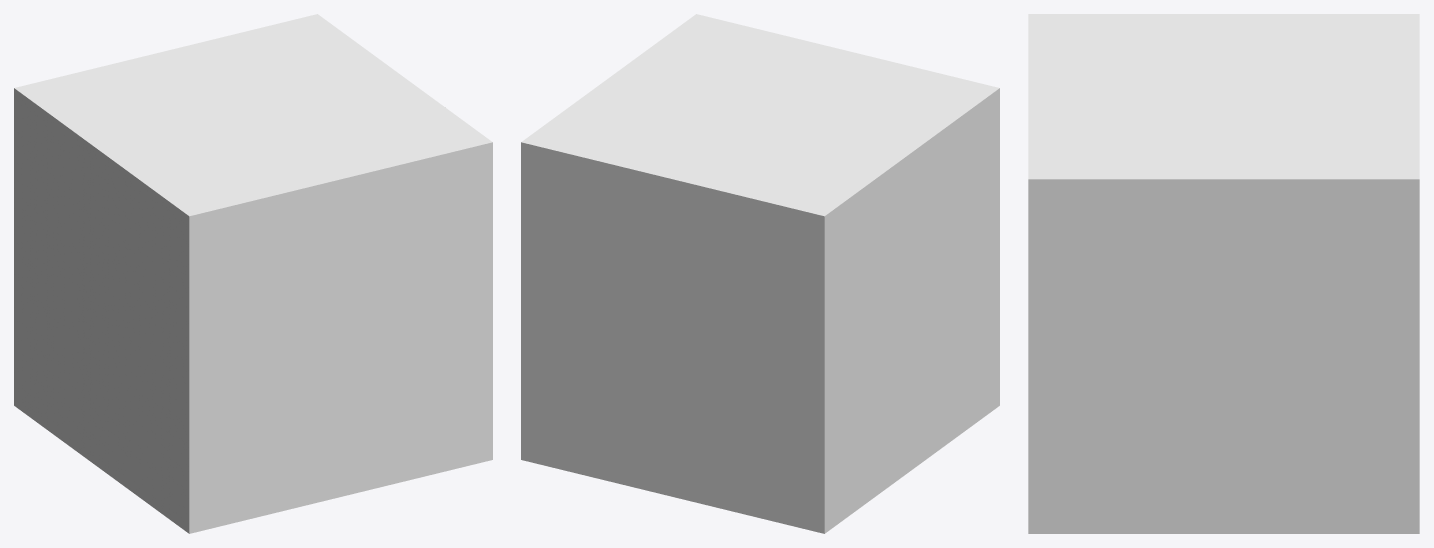
Rendered from yichinghuang_0614_ver2.fbx.
3 views of the same model, side by side, from view 1: azimuth 30°, elevation 25°; view 2: azimuth 150°, elevation 25°; view 3: azimuth 270°, elevation 25° (orthographic). The views are drawn at different scales.
Visible parts, largest first — view 1: cube, top; view 2: cube, top; view 3: cube, top.
Boxes of the visible parts, <box> form: cube: <box>14,88,492,533</box>; top: <box>14,14,492,216</box>; cube: <box>521,88,999,533</box>; top: <box>521,14,999,216</box>; cube: <box>1028,179,1419,533</box>; top: <box>1028,14,1419,179</box>.
Bounding box in the file's own units: 90 × 90 × 90.
Materials: 6 (6 with a texture image).
